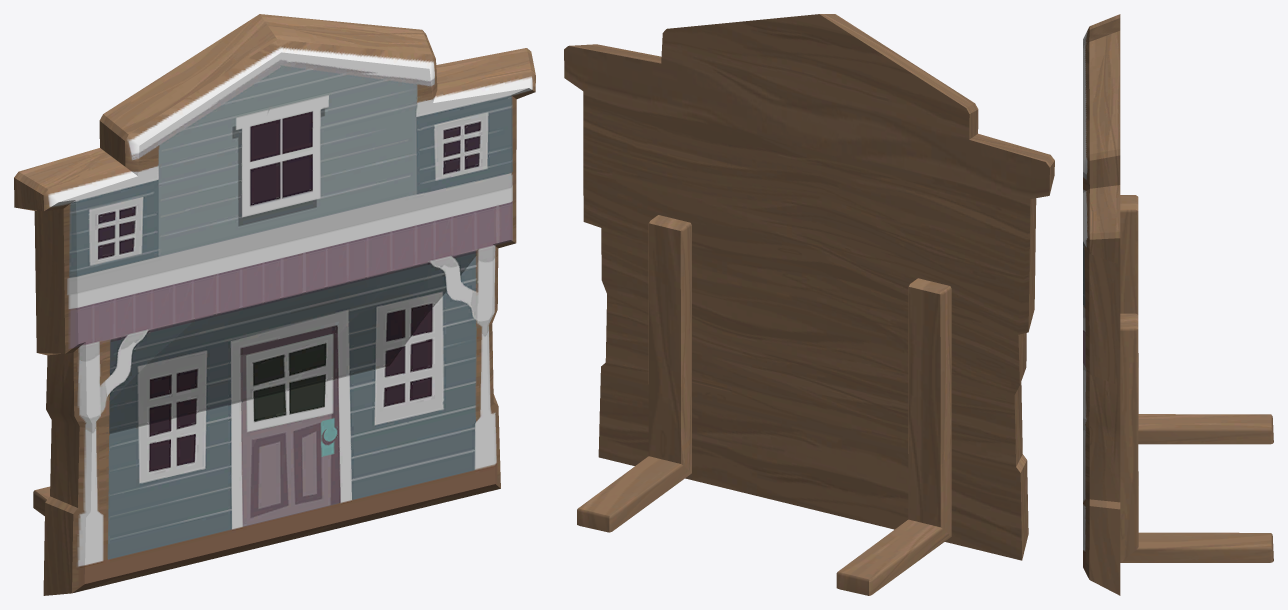
File: medium west cutout.glb
3 views of the same model, side by side, from view 1: azimuth 30°, elevation 25°; view 2: azimuth 150°, elevation 25°; view 3: azimuth 270°, elevation 25° (orthographic). The views are drawn at different scales.
Parts seen in each view (by area): view 1: Standee_WesternBuilding_Medium; view 2: Standee_WesternBuilding_Medium; view 3: Standee_WesternBuilding_Medium.
Part boxes in pixels (x1,y1,x2,y2): Standee_WesternBuilding_Medium: (14,14,535,595); Standee_WesternBuilding_Medium: (564,14,1054,595); Standee_WesternBuilding_Medium: (1083,14,1273,595).
Size of the model in its own units: 3.28 by 3.21 by 1.19.
1 material, 1 textured.
